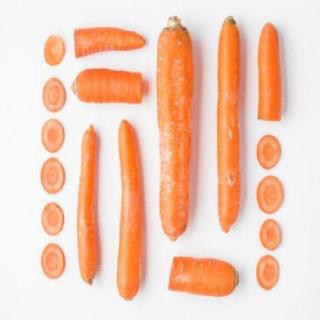carrot: (153, 14, 199, 244), (212, 11, 244, 228), (112, 118, 146, 306), (75, 124, 101, 300), (252, 11, 284, 131), (168, 252, 238, 302), (71, 66, 149, 108), (75, 21, 147, 61)
